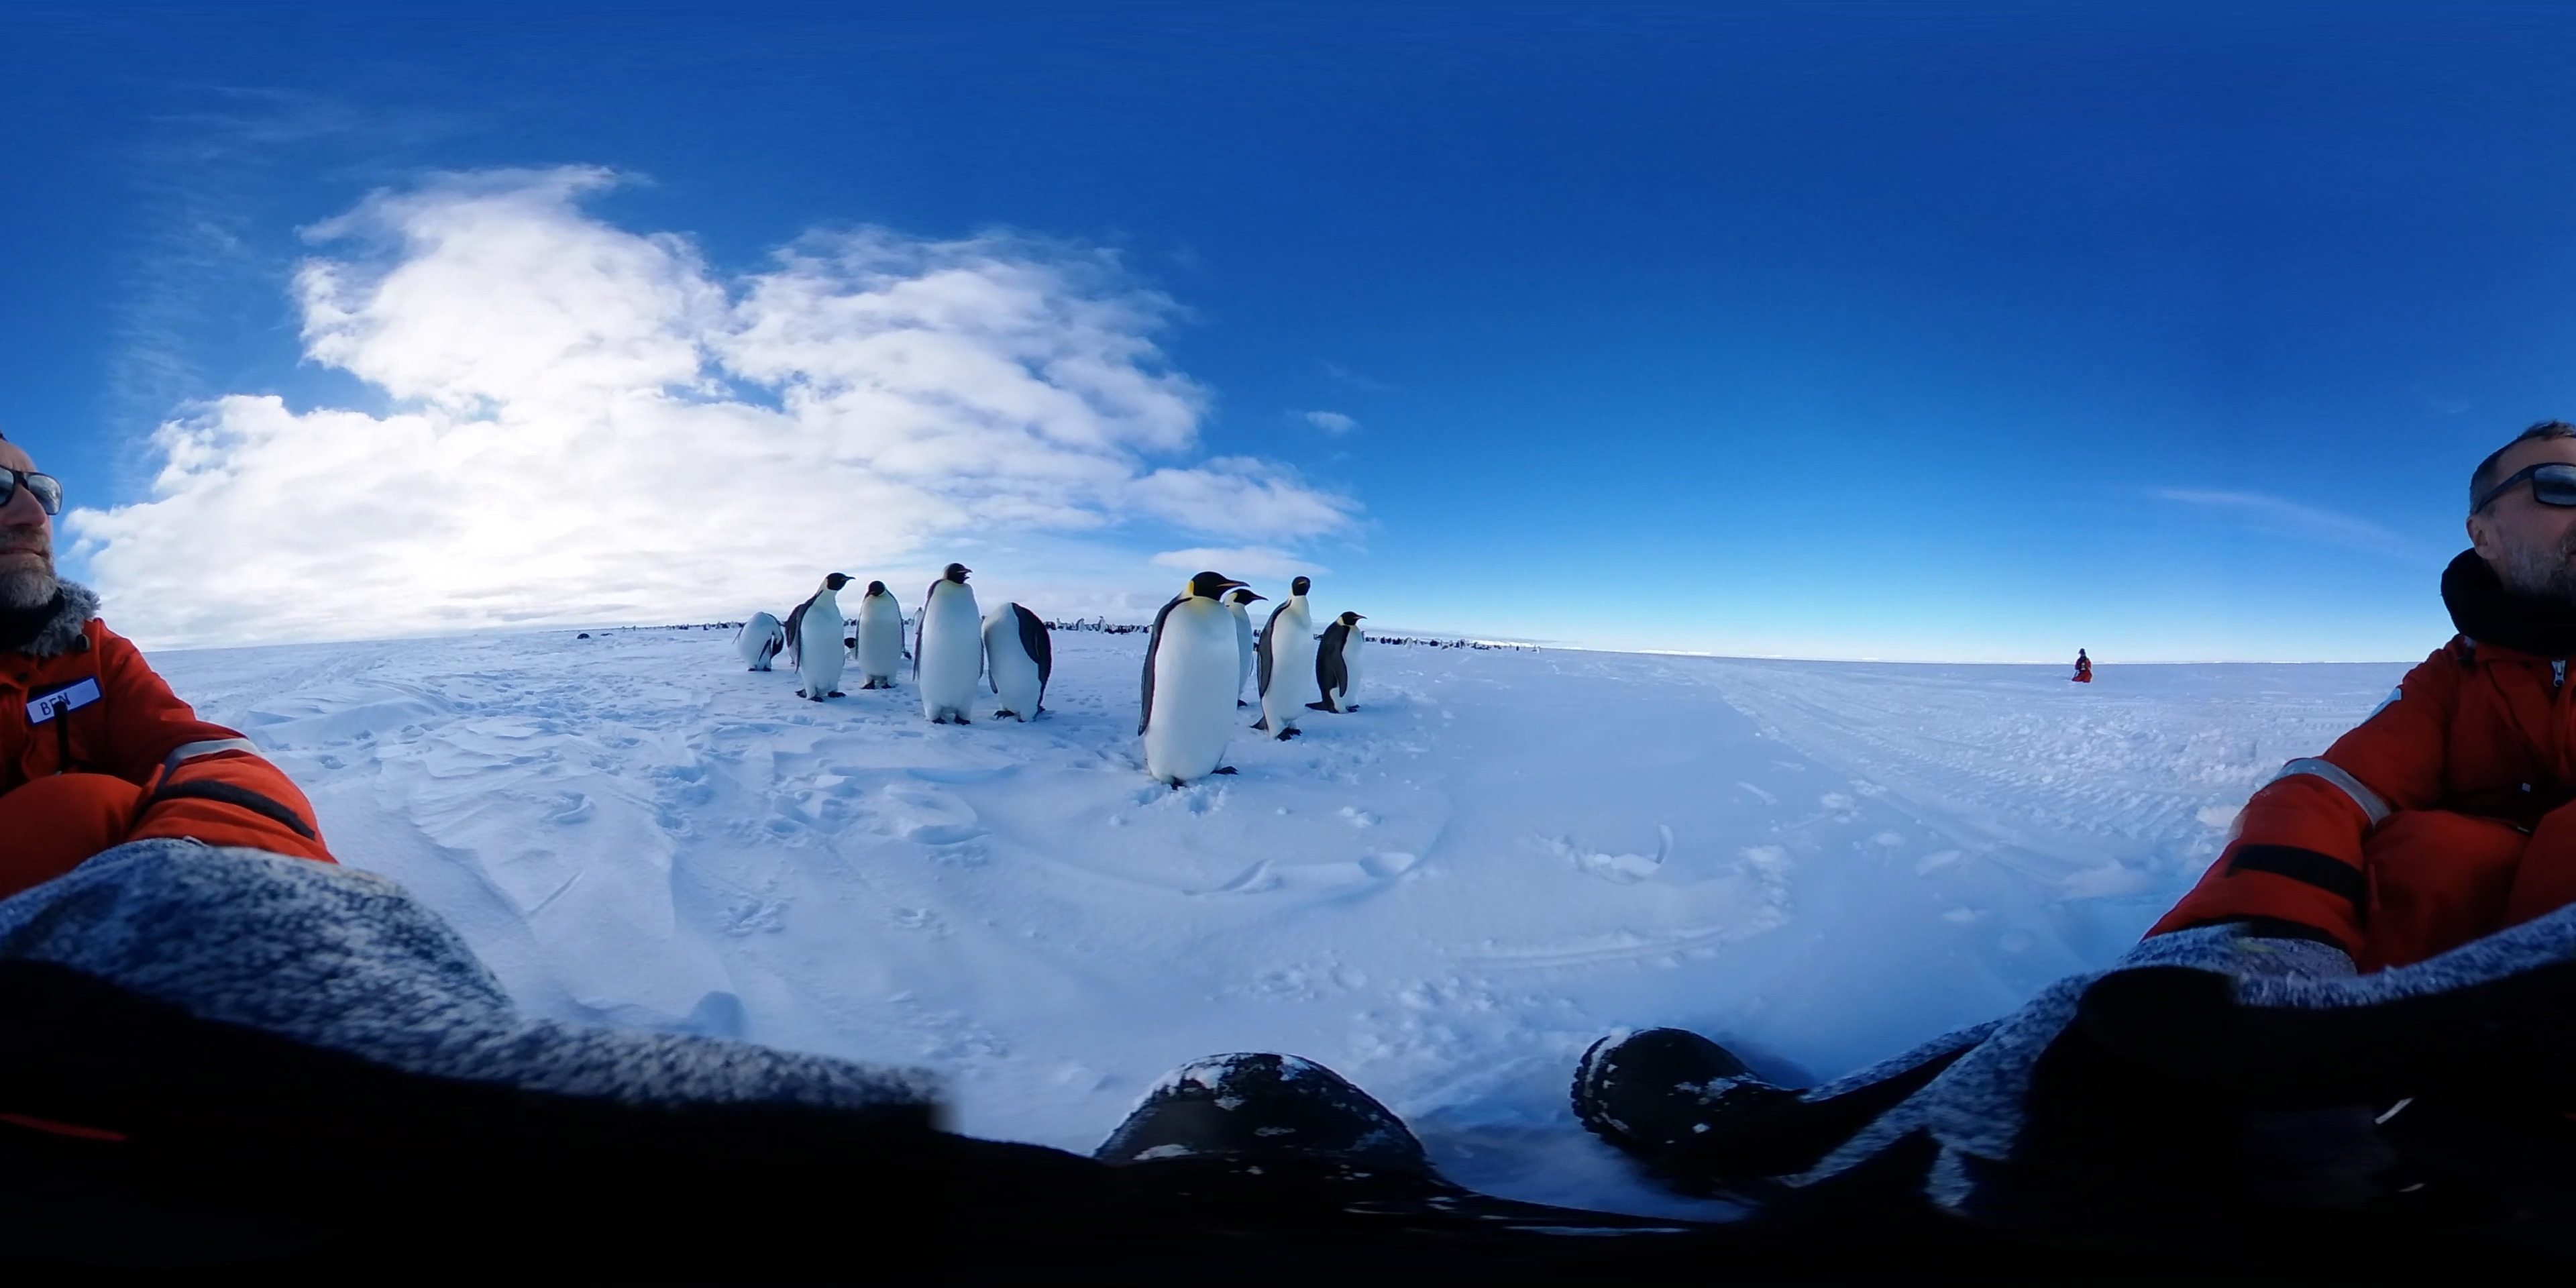adult_standing_penguin: (1132, 565, 1242, 798), (912, 559, 982, 731), (1249, 575, 1316, 746), (979, 593, 1053, 729), (790, 572, 849, 703), (1219, 586, 1273, 715), (1306, 613, 1368, 716), (856, 577, 910, 692), (734, 606, 787, 678)
researcher: (2131, 383, 2576, 1288), (0, 424, 338, 1068), (2072, 646, 2095, 685)
